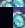mirror: (13, 7, 25, 28), (0, 0, 13, 7), (13, 0, 25, 7)
